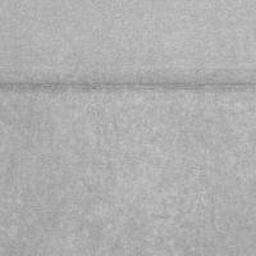Welding line: (0, 82, 256, 92)
